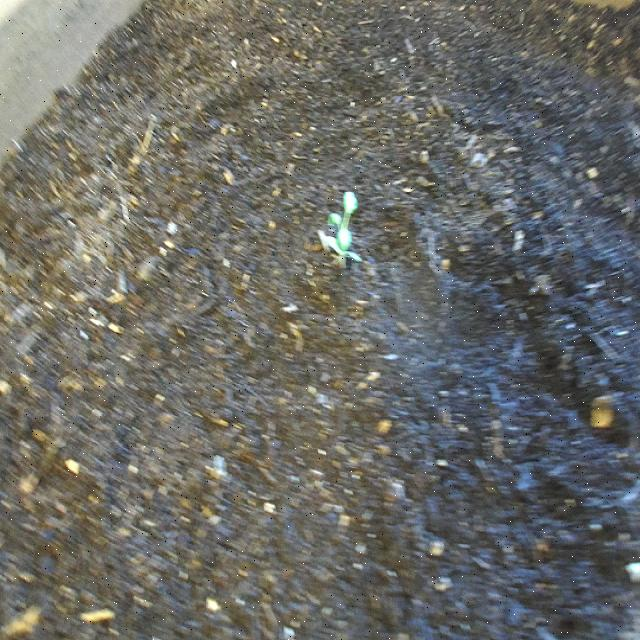Healthy: (329, 185, 358, 262)
